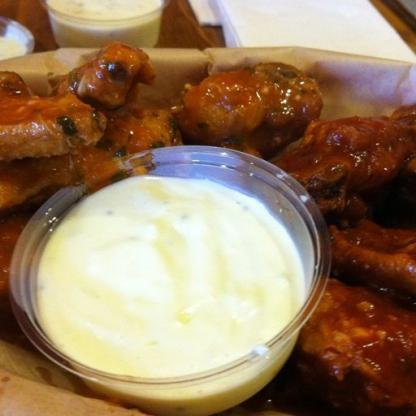yogurt: (36, 167, 295, 404)
